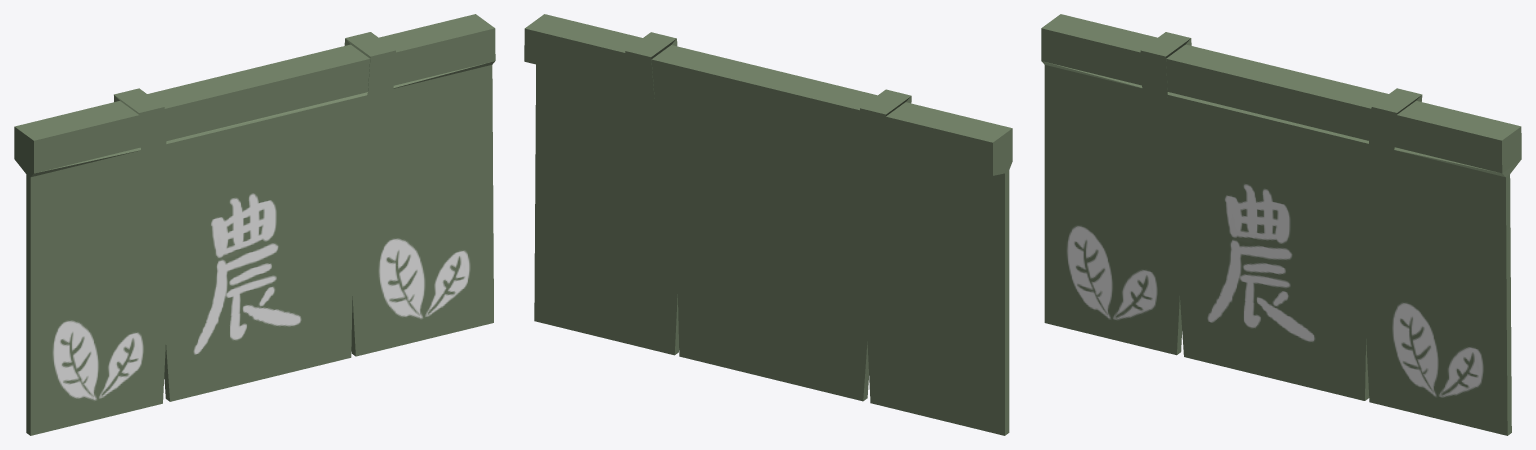
Rendered from Noren_Green_Farm.gltf.
The picture shows the model from 3 angles, left to right: view 1: azimuth 30°, elevation 25°; view 2: azimuth 150°, elevation 25°; view 3: azimuth 330°, elevation 25°; orthographic projection.
Parts seen in each view (by area): view 1: Noren_Green_Farm; view 2: Noren_Green_Farm; view 3: Noren_Green_Farm.
Boxes of the visible parts, left/top/right/bottom form: Noren_Green_Farm: left=14, top=14, right=495, bottom=435; Noren_Green_Farm: left=524, top=14, right=1012, bottom=435; Noren_Green_Farm: left=1041, top=14, right=1521, bottom=435.
Bounding box in the file's own units: 1 × 0.6267 × 0.0953.
Materials: 1 (1 with a texture image).
